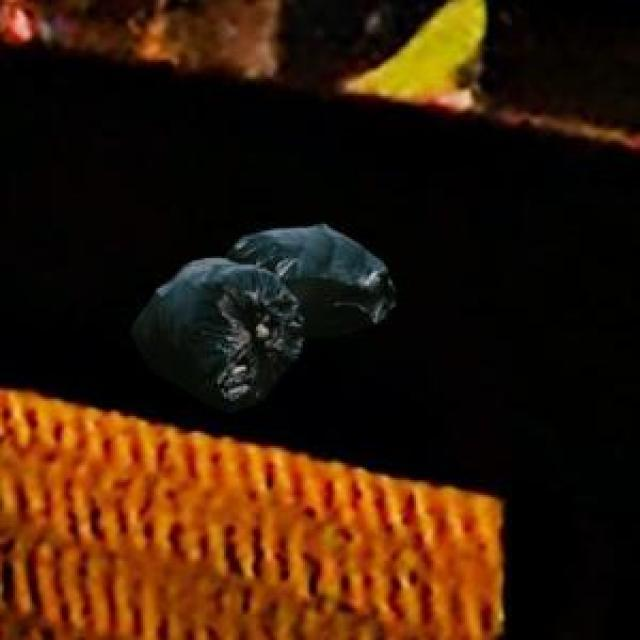Vinyl: (132, 224, 396, 411)
